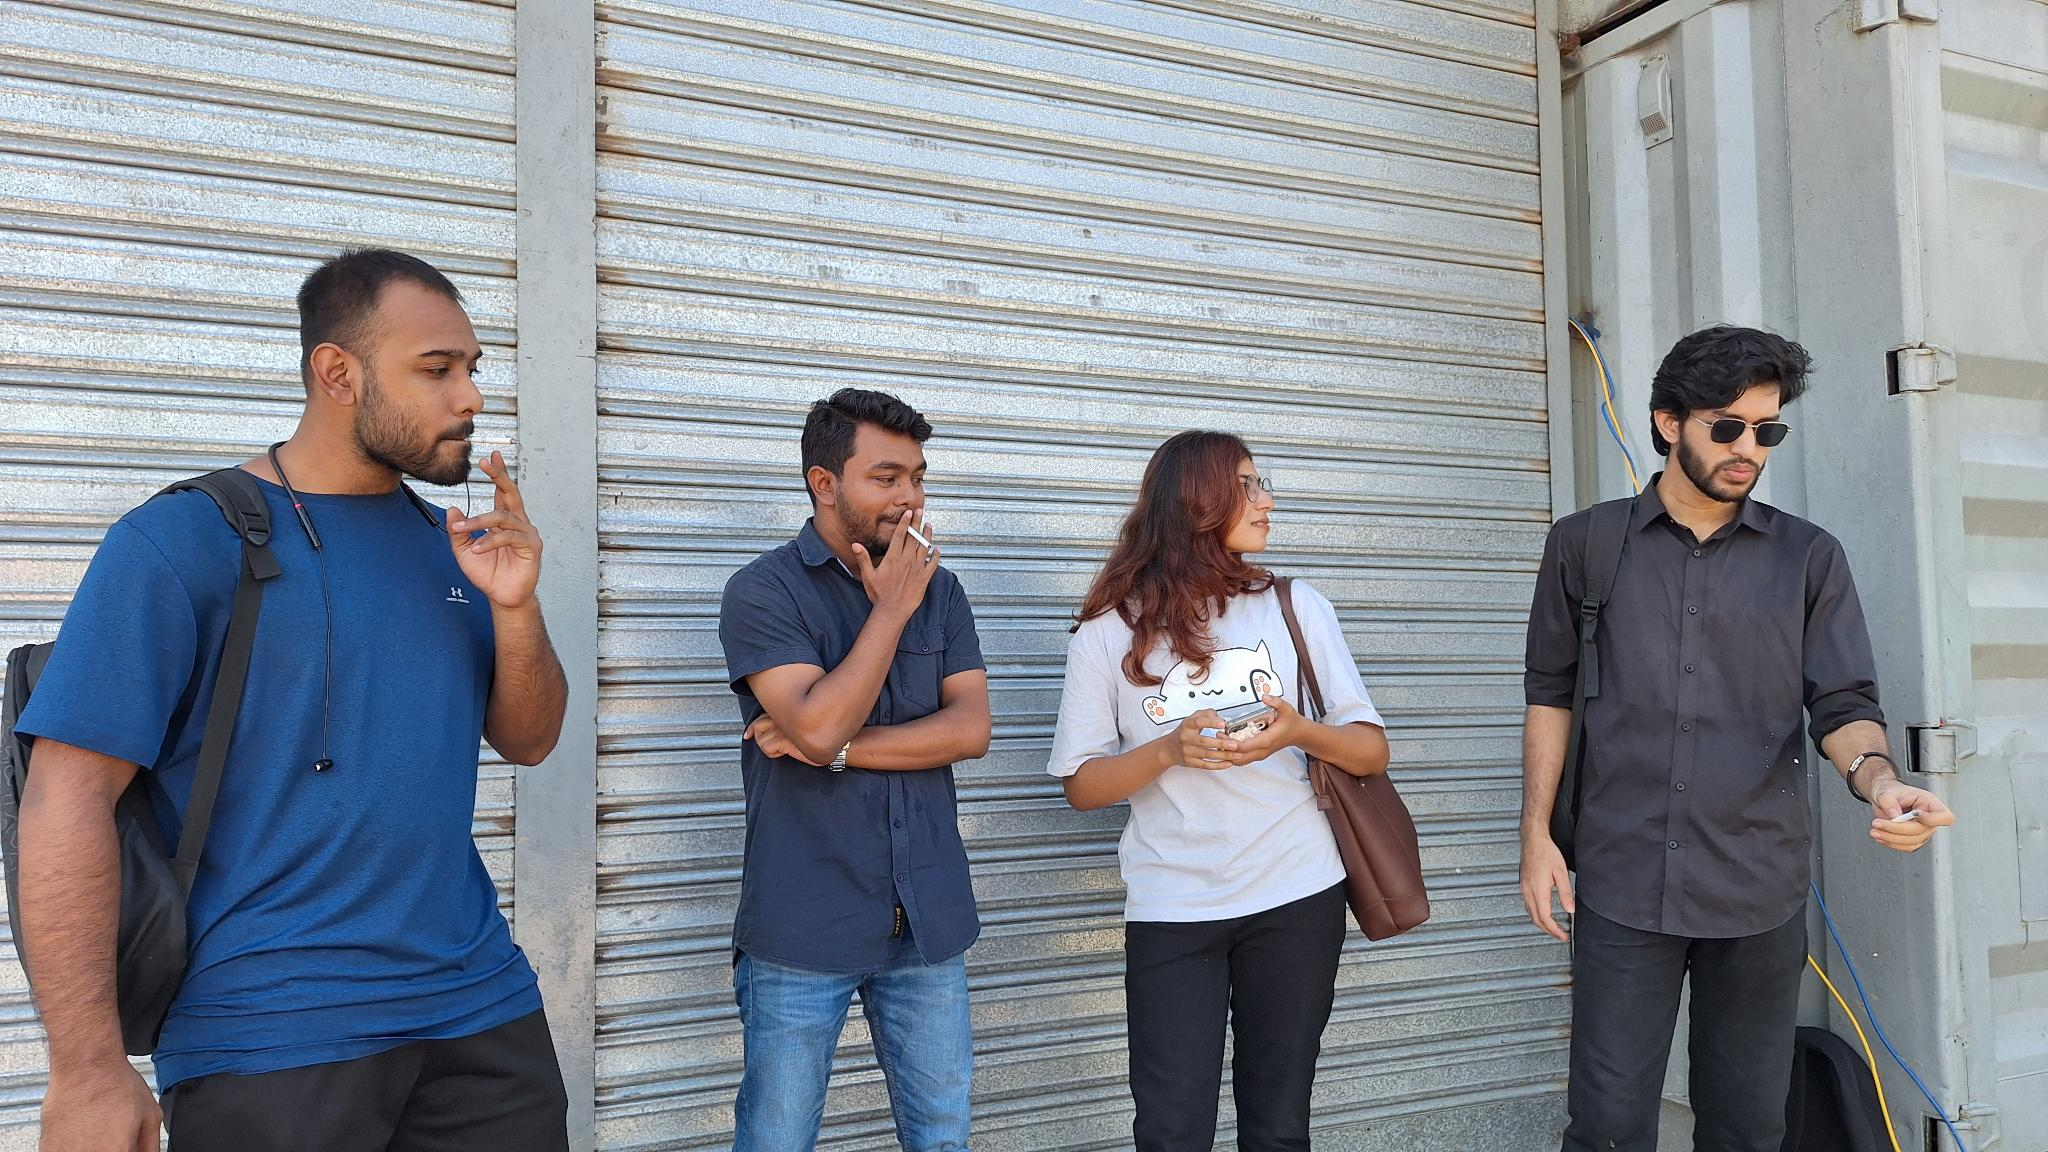cigarette: (460, 433, 522, 446), (906, 525, 934, 551), (1888, 807, 1923, 826)
nonSmoker: (1048, 430, 1431, 1152)
smoker: (0, 248, 570, 1152), (1519, 326, 1958, 1152), (717, 388, 992, 1152)
